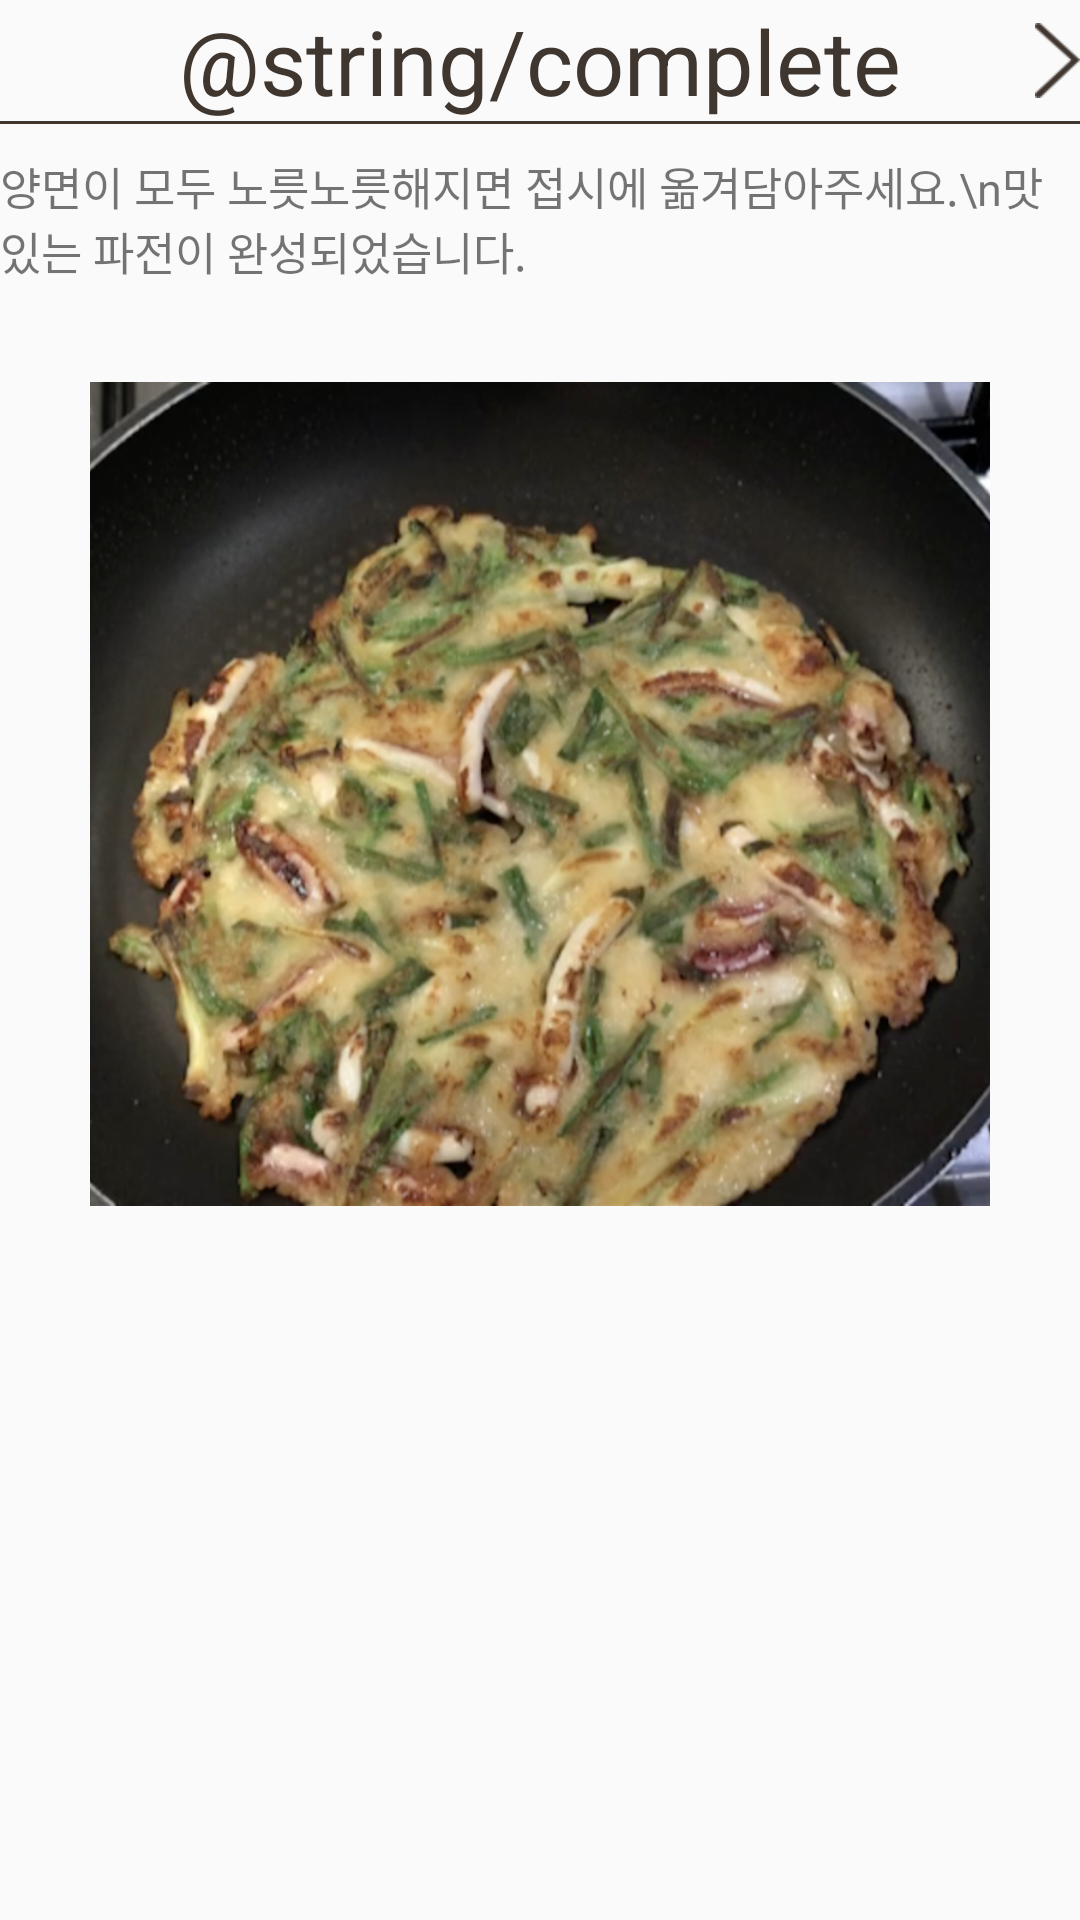

Point at icon controls on the screen. Image size 1080 × 1920, points as (x=x, y=y).
next: (x=1057, y=60)
